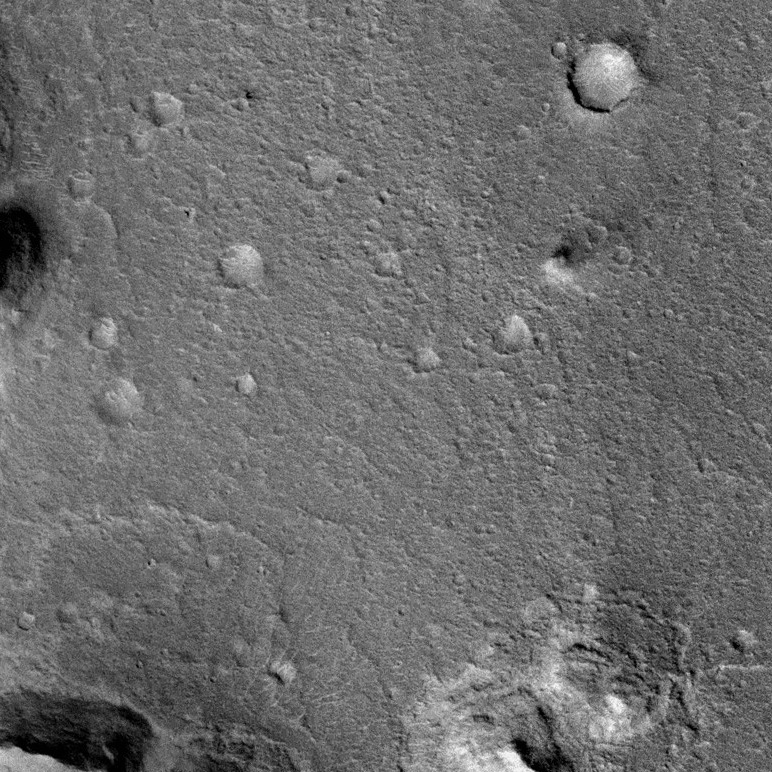dust_devil: (540, 212, 620, 298)
